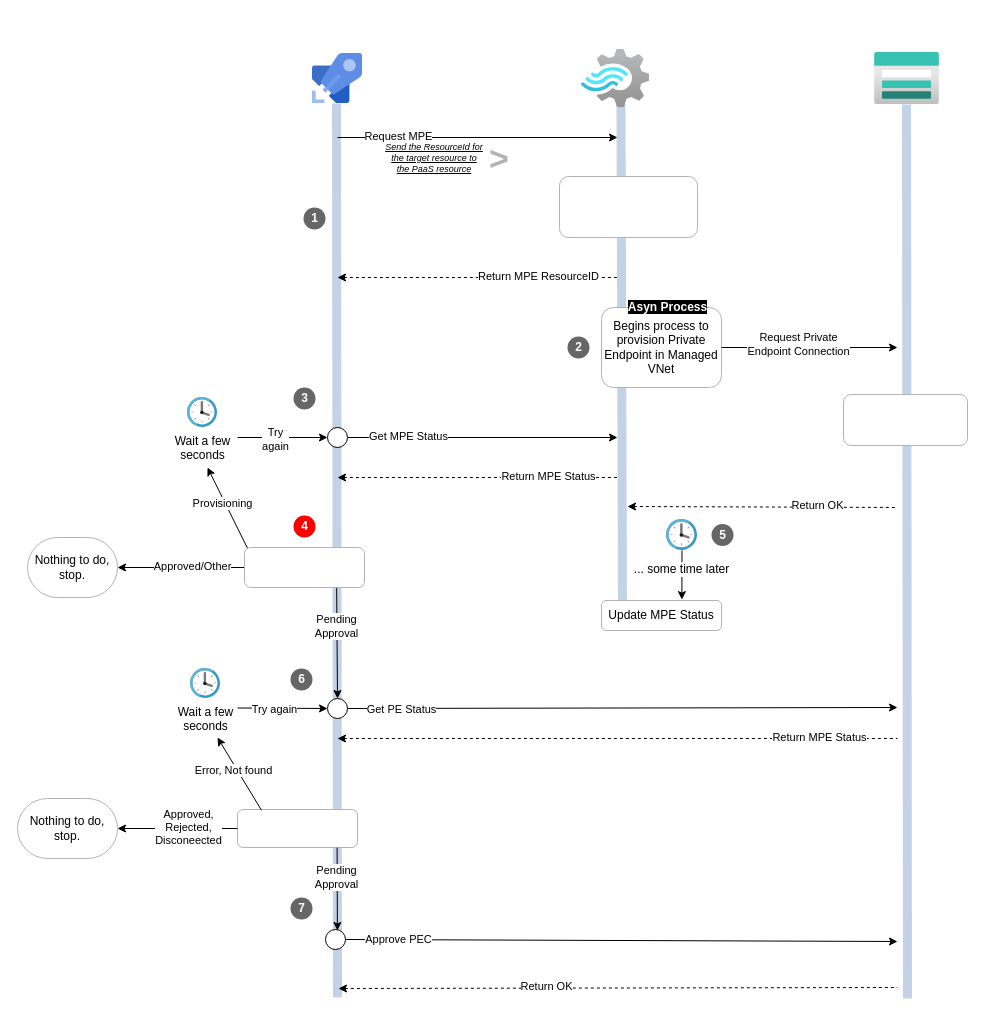
Some shapes in this 987 by 1021 pixel diagram are drawn without their labels. The shapes that lost their labels are listed below. From the top down, each one's centre as x and y in pixels, then its label:
At (x=337, y=78): "Automation Pipeline".
At (x=615, y=78): "PaaS Resource (eg: Stream Analytics)".
At (x=906, y=78): "Target Resource (Private Link Resource)".
At (x=628, y=207): "Creates MPE in Pending status and immediatly returns the resource id for the MPE".
At (x=905, y=420): "Creates Private Endpoint Connection in Pending status".
At (x=304, y=567): "Evaluate MPE Status".
At (x=297, y=828): "Evaluate PEC Status".
